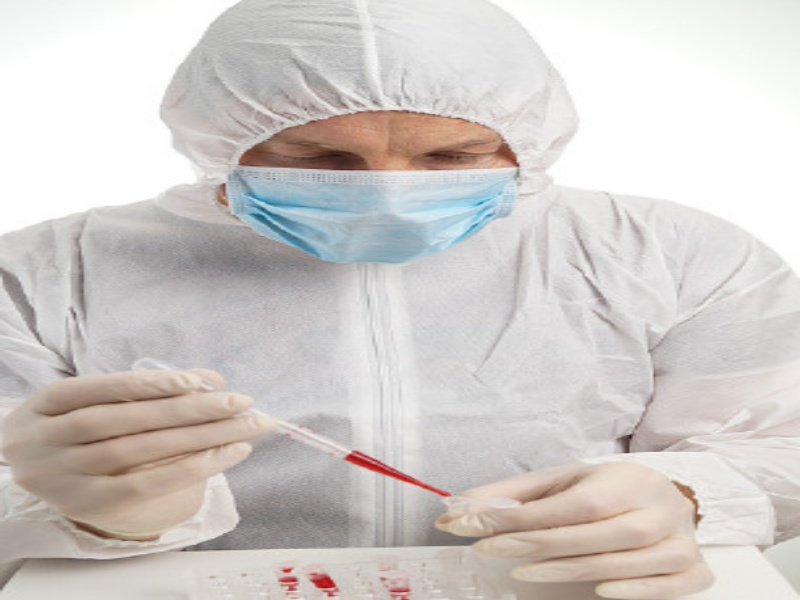mask: (163, 1, 578, 269)
